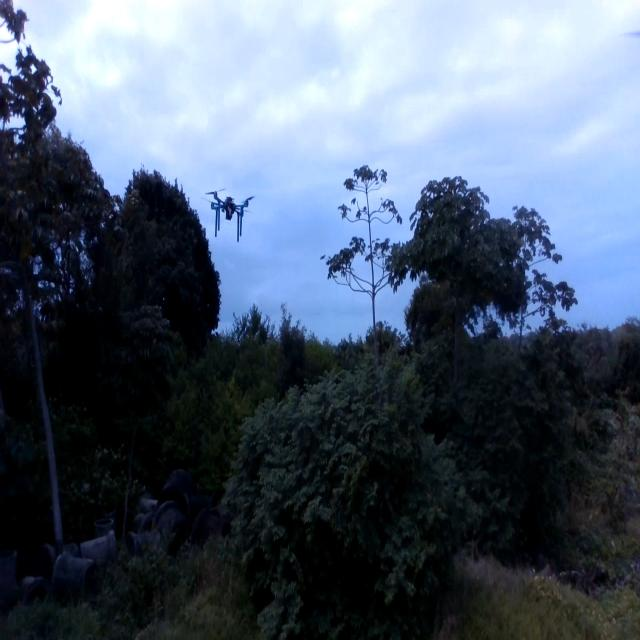-uav-: (200, 178, 262, 247)
